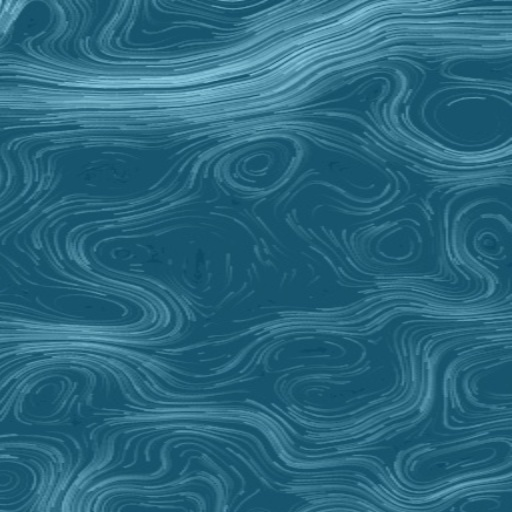eddy: (394, 434, 509, 488), (257, 329, 370, 376), (223, 132, 303, 193), (33, 285, 136, 330), (16, 372, 74, 423), (374, 219, 424, 266), (469, 230, 503, 265), (104, 241, 144, 264)
